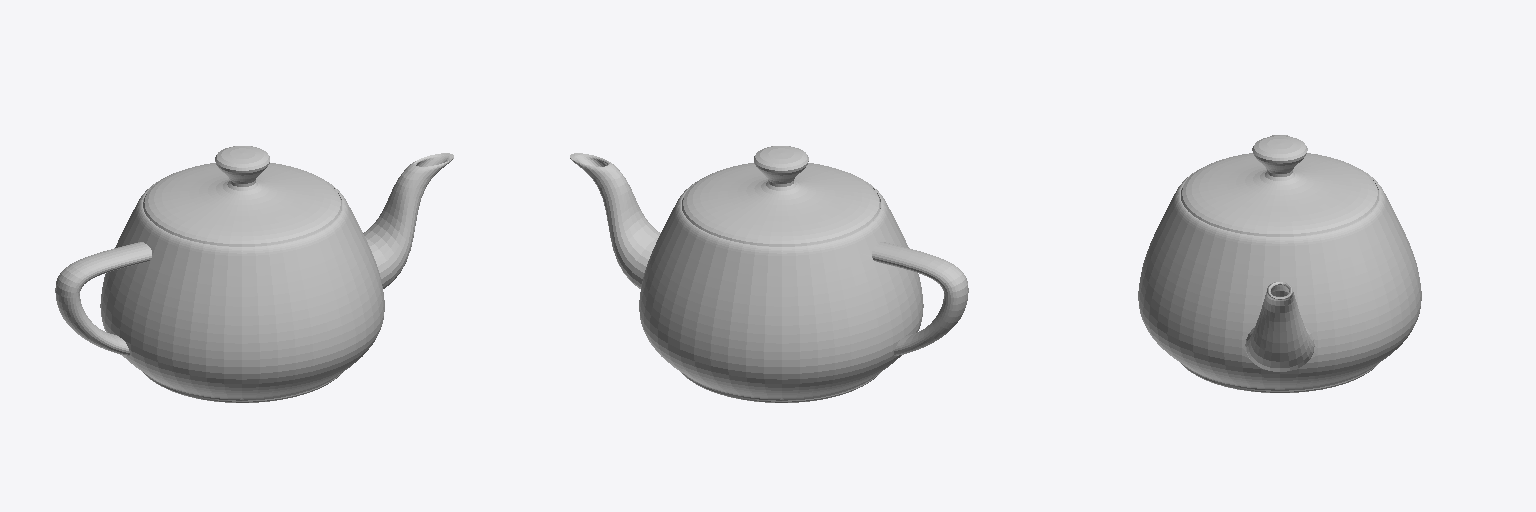
Rendered from teapot.obj.
3 views of the same model, side by side, from view 1: azimuth 30°, elevation 25°; view 2: azimuth 150°, elevation 25°; view 3: azimuth 270°, elevation 25° (orthographic).
Parts seen in each view (by area): view 1: teapot; view 2: teapot; view 3: teapot.
Part boxes in pixels (x1,y1,x2,y2): teapot: (55,146,453,402); teapot: (570,146,968,402); teapot: (1138,135,1421,392).
Size of the model in its own units: 1 by 0.5124 by 0.6217.